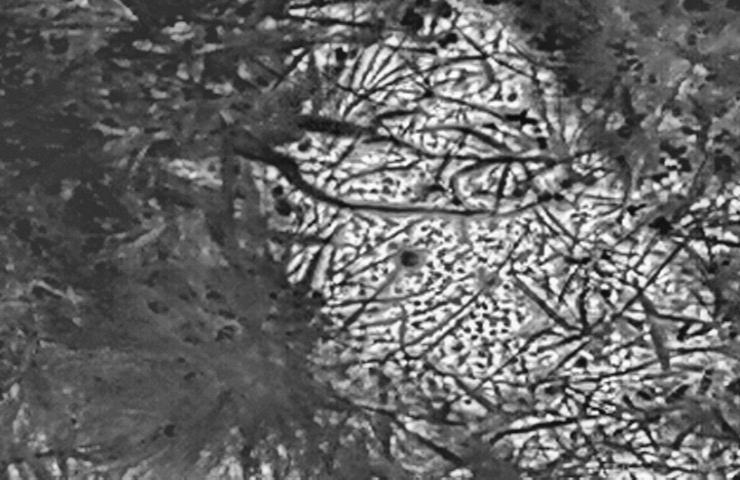landmines: (263, 10, 721, 430)
